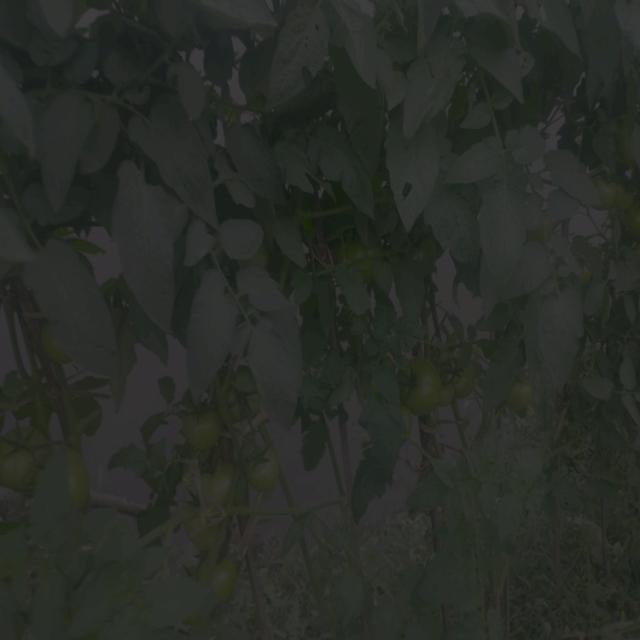tomato: (404, 350, 482, 409), (55, 437, 98, 520), (3, 419, 50, 489), (594, 175, 640, 235), (331, 233, 379, 281), (400, 237, 445, 285), (198, 561, 241, 606), (41, 324, 83, 368), (184, 408, 223, 455), (197, 466, 236, 511), (227, 375, 263, 422), (247, 450, 283, 492), (187, 516, 229, 551), (507, 375, 540, 418), (620, 123, 640, 172), (534, 209, 558, 245), (400, 415, 419, 450), (575, 256, 593, 284), (630, 243, 640, 277)
